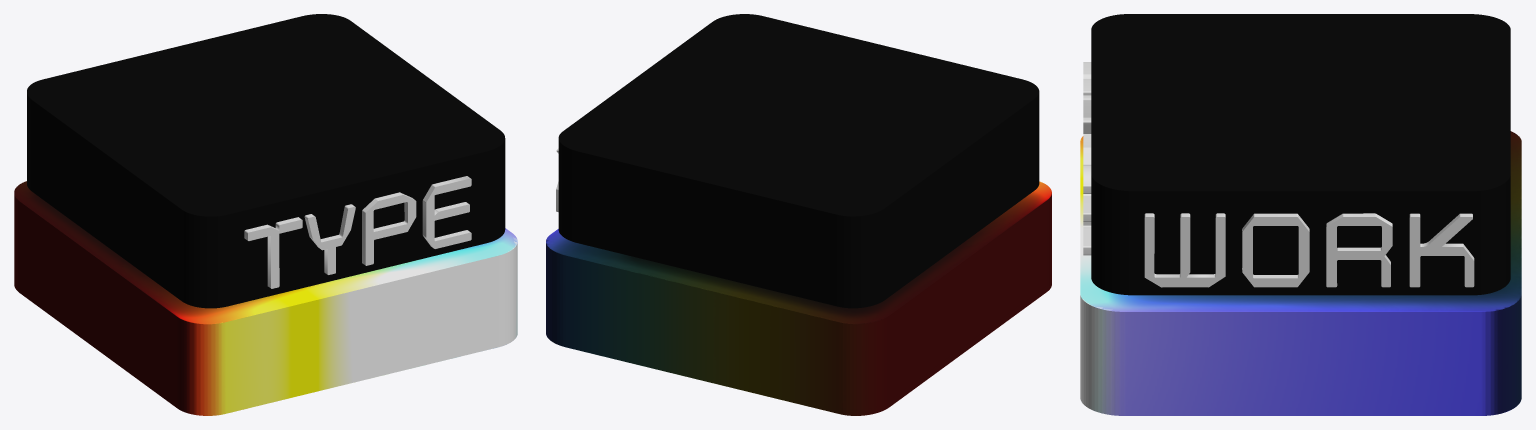
Rendered from typework3.glb.
3 views of the same model, side by side, from view 1: azimuth 30°, elevation 25°; view 2: azimuth 150°, elevation 25°; view 3: azimuth 270°, elevation 25° (orthographic). The views are drawn at different scales.
Visible parts, largest first — view 1: Cube.001, Cube, TYPE; view 2: Cube.001, Cube; view 3: Cube.001, Cube, TYPE.001, TYPE.
Boxes of the visible parts, left/top/right/bottom form: Cube.001: left=27, top=14, right=505, bottom=308; Cube: left=14, top=181, right=517, bottom=415; TYPE: left=244, top=176, right=471, bottom=288; Cube.001: left=558, top=14, right=1039, bottom=308; Cube: left=546, top=181, right=1051, bottom=415; Cube.001: left=1091, top=14, right=1510, bottom=295; Cube: left=1080, top=131, right=1521, bottom=415; TYPE.001: left=1144, top=213, right=1474, bottom=287; TYPE: left=1083, top=62, right=1091, bottom=255.
Bounding box in the file's own units: 2 × 1.1 × 2.
3 materials, 1 textured.
